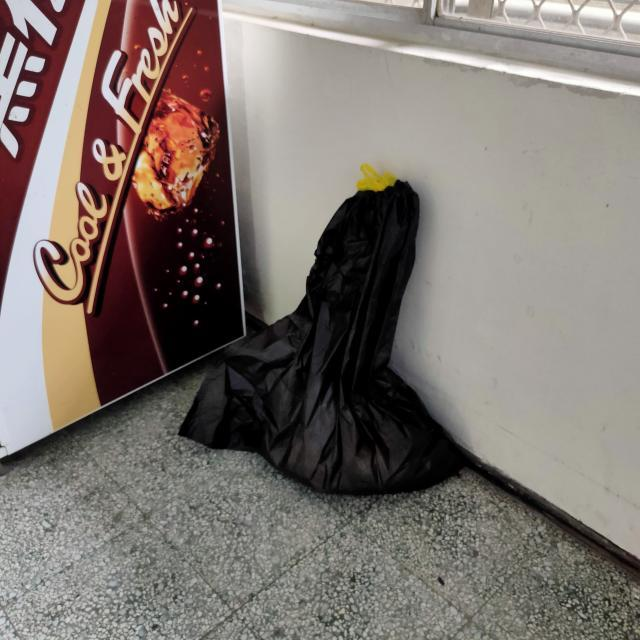Vinyl: (173, 118, 474, 518)
